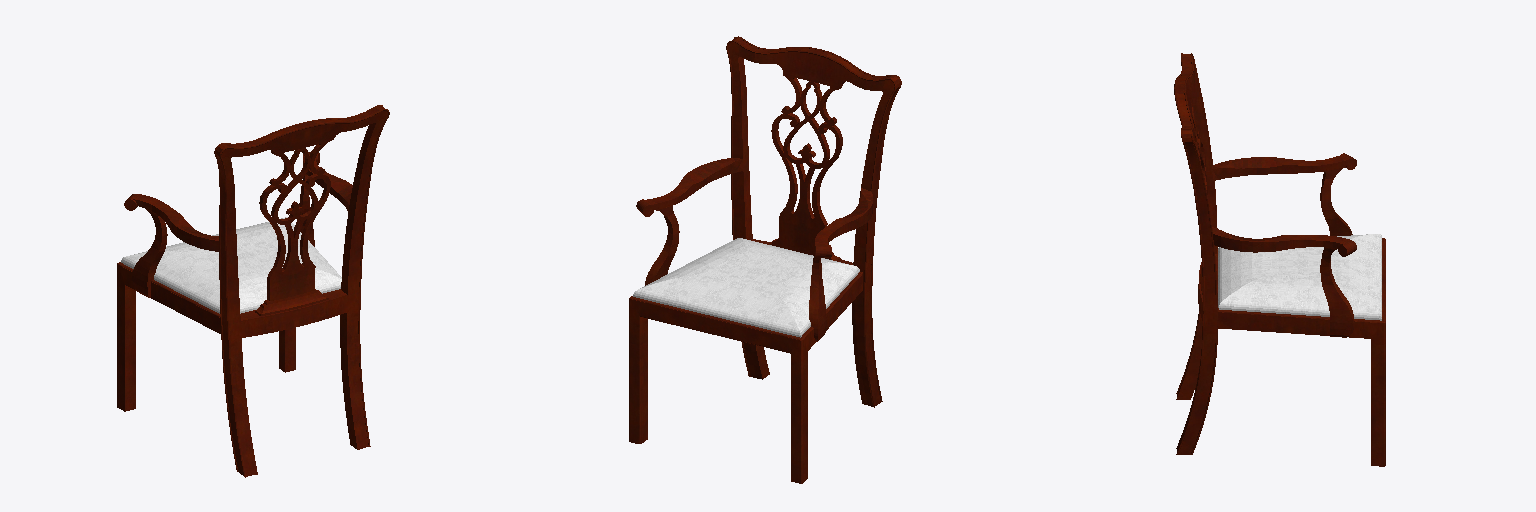
3 views of the same model, side by side, from view 1: azimuth 30°, elevation 25°; view 2: azimuth 150°, elevation 25°; view 3: azimuth 270°, elevation 25° (orthographic).
Parts seen in each view (by area): view 1: mesh27_mesh27-geometry, mesh11_mesh11-geometry, mesh26_mesh26-geometry, mesh39_mesh39-geometry, mesh8_mesh8-geometry, mesh21_mesh21-geometry, mesh37_mesh37-geometry, mesh46_mesh46-geometry, mesh42_mesh42-geometry, mesh1_mesh1-geometry, mesh3_mesh3-geometry, mesh45_mesh45-geometry; view 2: mesh27_mesh27-geometry, mesh11_mesh11-geometry, mesh26_mesh26-geometry, mesh8_mesh8-geometry, mesh39_mesh39-geometry, mesh1_mesh1-geometry, mesh3_mesh3-geometry, mesh21_mesh21-geometry, mesh37_mesh37-geometry, mesh9_mesh9-geometry, mesh45_mesh45-geometry, mesh46_mesh46-geometry (+1 smaller); view 3: mesh8_mesh8-geometry, mesh1_mesh1-geometry, mesh11_mesh11-geometry, mesh26_mesh26-geometry, mesh27_mesh27-geometry, mesh21_mesh21-geometry, mesh3_mesh3-geometry, mesh9_mesh9-geometry, mesh37_mesh37-geometry, mesh41_mesh41-geometry, mesh42_mesh42-geometry.
Part boxes in pixels (bbox=[...]): mesh27_mesh27-geometry: bbox=[216, 124, 307, 476]; mesh11_mesh11-geometry: bbox=[293, 106, 387, 449]; mesh26_mesh26-geometry: bbox=[121, 242, 268, 313]; mesh39_mesh39-geometry: bbox=[117, 262, 254, 411]; mesh8_mesh8-geometry: bbox=[212, 217, 341, 293]; mesh21_mesh21-geometry: bbox=[124, 194, 218, 251]; mesh37_mesh37-geometry: bbox=[132, 209, 167, 297]; mesh46_mesh46-geometry: bbox=[219, 126, 308, 477]; mesh42_mesh42-geometry: bbox=[309, 108, 389, 446]; mesh1_mesh1-geometry: bbox=[279, 289, 340, 372]; mesh3_mesh3-geometry: bbox=[303, 152, 352, 211]; mesh45_mesh45-geometry: bbox=[214, 122, 303, 471]; mesh27_mesh27-geometry: bbox=[802, 51, 899, 406]; mesh11_mesh11-geometry: bbox=[728, 38, 819, 379]; mesh26_mesh26-geometry: bbox=[717, 251, 859, 337]; mesh8_mesh8-geometry: bbox=[633, 238, 795, 316]; mesh39_mesh39-geometry: bbox=[715, 272, 862, 483]; mesh1_mesh1-geometry: bbox=[629, 296, 716, 443]; mesh3_mesh3-geometry: bbox=[636, 158, 742, 216]; mesh21_mesh21-geometry: bbox=[815, 188, 872, 257]; mesh37_mesh37-geometry: bbox=[809, 255, 826, 341]; mesh9_mesh9-geometry: bbox=[645, 206, 679, 285]; mesh45_mesh45-geometry: bbox=[815, 53, 896, 407]; mesh46_mesh46-geometry: bbox=[820, 49, 901, 401]; mesh8_mesh8-geometry: bbox=[1218, 264, 1381, 320]; mesh1_mesh1-geometry: bbox=[1217, 280, 1385, 466]; mesh11_mesh11-geometry: bbox=[1176, 89, 1215, 454]; mesh26_mesh26-geometry: bbox=[1218, 234, 1381, 277]; mesh27_mesh27-geometry: bbox=[1176, 54, 1216, 399]; mesh21_mesh21-geometry: bbox=[1212, 153, 1356, 180]; mesh3_mesh3-geometry: bbox=[1212, 227, 1356, 256]; mesh9_mesh9-geometry: bbox=[1320, 247, 1353, 337]; mesh37_mesh37-geometry: bbox=[1320, 167, 1352, 235]; mesh41_mesh41-geometry: bbox=[1184, 88, 1217, 454]; mesh42_mesh42-geometry: bbox=[1174, 88, 1204, 454].
Size of the model in its own units: 0.4676 by 0.7681 by 0.4375.
Materials: 3 (2 with a texture image).